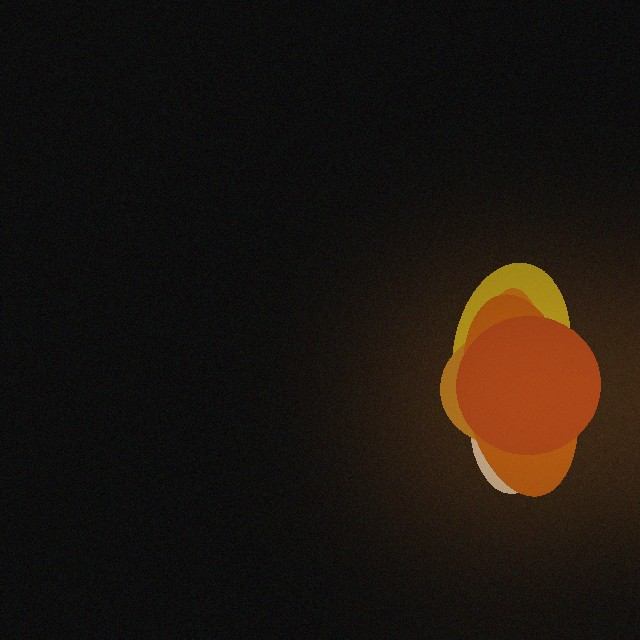fire: (448, 305, 580, 499)
